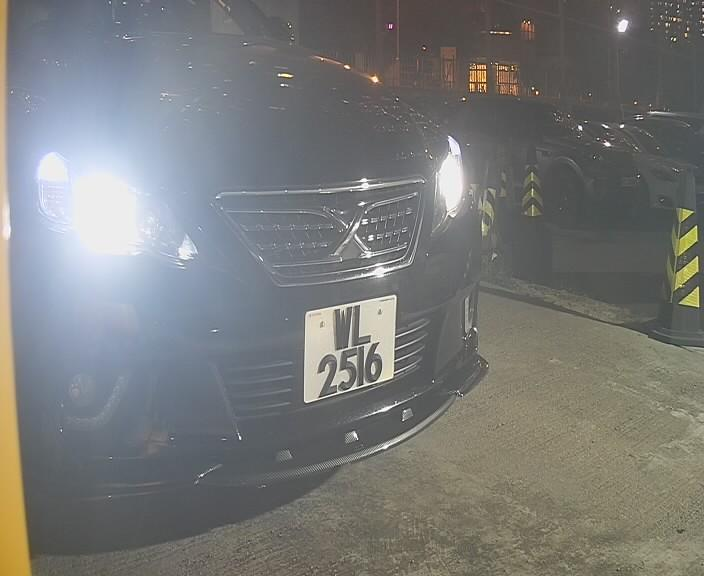Car: (16, 21, 557, 523)
License Plate: (296, 283, 412, 412)
